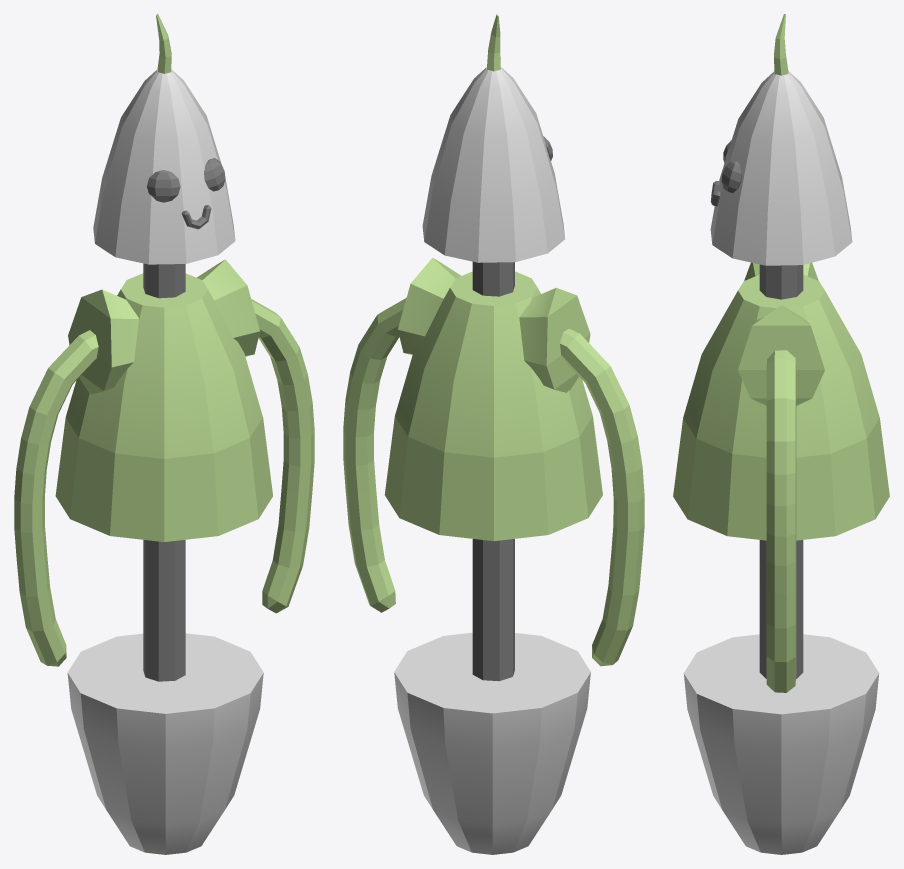
Rendered from SM_WobblyRobot.fbx.
3 views of the same model, side by side, from view 1: azimuth 30°, elevation 25°; view 2: azimuth 150°, elevation 25°; view 3: azimuth 270°, elevation 25° (orthographic).
Visible parts, largest first — view 1: wooblyRobot; view 2: wooblyRobot; view 3: wooblyRobot.
Boxes of the visible parts, x1=… form: wooblyRobot: x1=14, y1=14, x2=314, y2=854; wooblyRobot: x1=343, y1=14, x2=644, y2=854; wooblyRobot: x1=673, y1=14, x2=889, y2=854.
Size of the model in its own units: 118 by 313 by 75.05.
